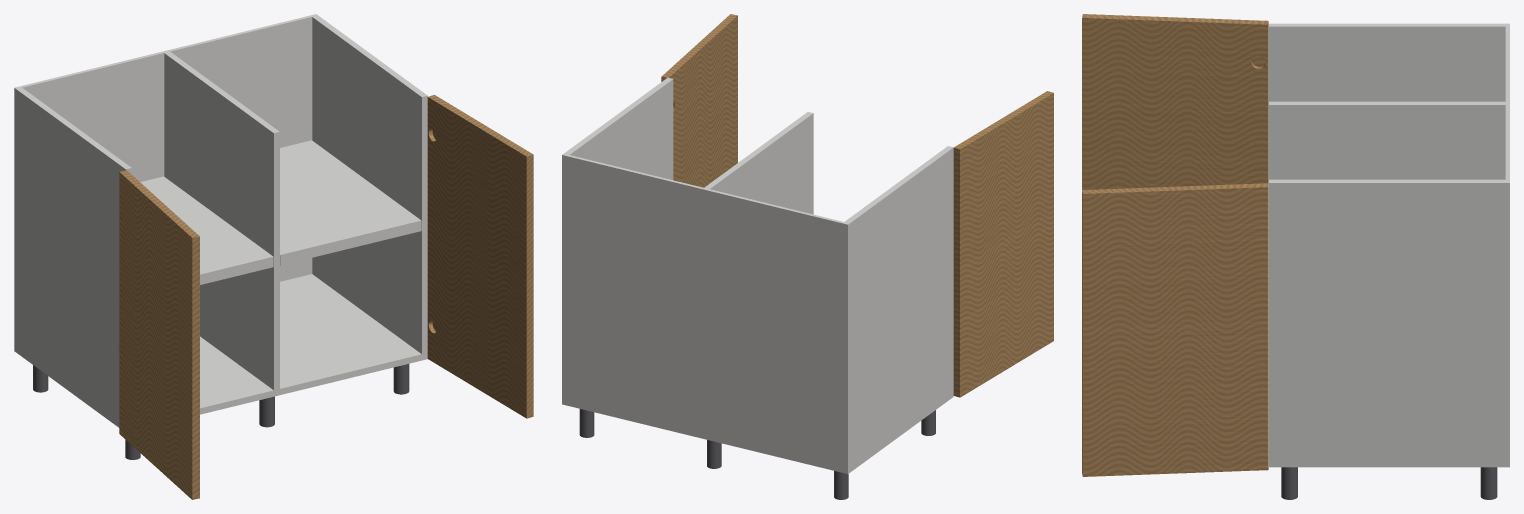
File: w900_none_default_open.glb
3 renders of one model, left to right at view 1: azimuth 30°, elevation 25°; view 2: azimuth 150°, elevation 25°; view 3: azimuth 270°, elevation 25°, orthographic. The views are drawn at different scales.
Visible parts, largest first — view 1: white, oak, leg; view 2: white, oak, leg; view 3: white, oak, leg.
Boxes of the visible parts, x1,y1,x2,y2 form: white: (14,14,427,427); oak: (119,95,533,499); leg: (33,364,409,459); white: (562,77,953,473); oak: (661,14,1053,397); leg: (579,409,935,499); white: (1269,23,1509,467); oak: (1082,14,1268,476); leg: (1281,467,1497,499).
Bounding box in the file's own units: 1.02 × 0.85 × 1.02.
Materials: 3 (1 with a texture image).
